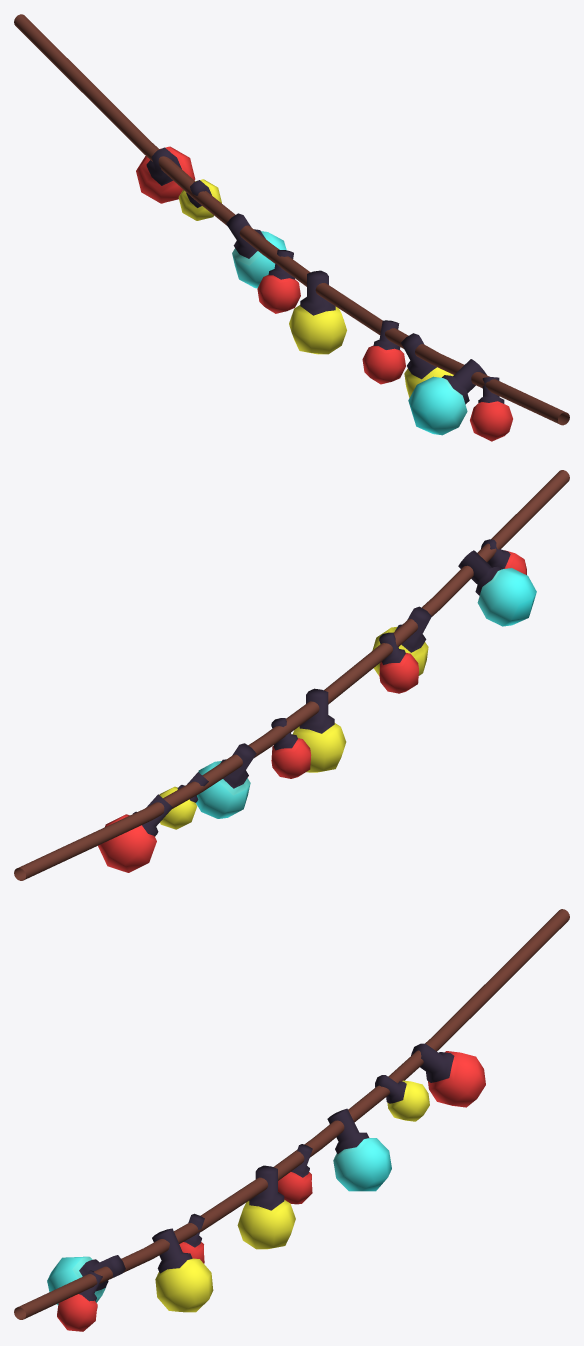
File: Luzes.fbx
The picture shows the model from 3 angles, top to bottom: view 1: azimuth 30°, elevation 25°; view 2: azimuth 150°, elevation 25°; view 3: azimuth 330°, elevation 25°; orthographic projection.
Visible parts, largest first — view 1: Luzes; view 2: Luzes; view 3: Luzes.
Part boxes in pixels (bbox=[...]): Luzes: bbox=[14, 14, 569, 441]; Luzes: bbox=[14, 470, 569, 880]; Luzes: bbox=[14, 909, 569, 1331].
Bounding box in the file's own units: 48.83 × 435 × 54.04.
